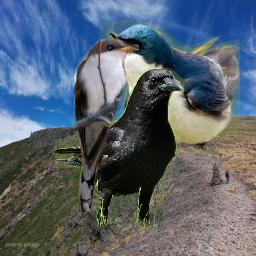Crow: (54, 67, 184, 227)
Cuckoo: (72, 37, 139, 212)
Swallow: (98, 20, 240, 153)
